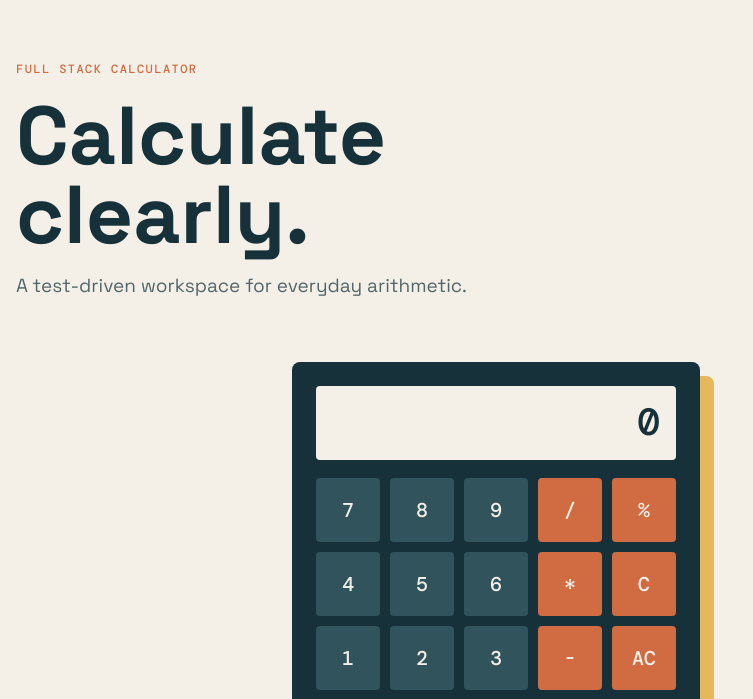
Test: Calculator shell › shows an API error when the calculation request fails
The width and height of the screenshot is (753, 699).
Click the button "2" at (422, 658), box [390, 626, 454, 690]
(page scrolled)
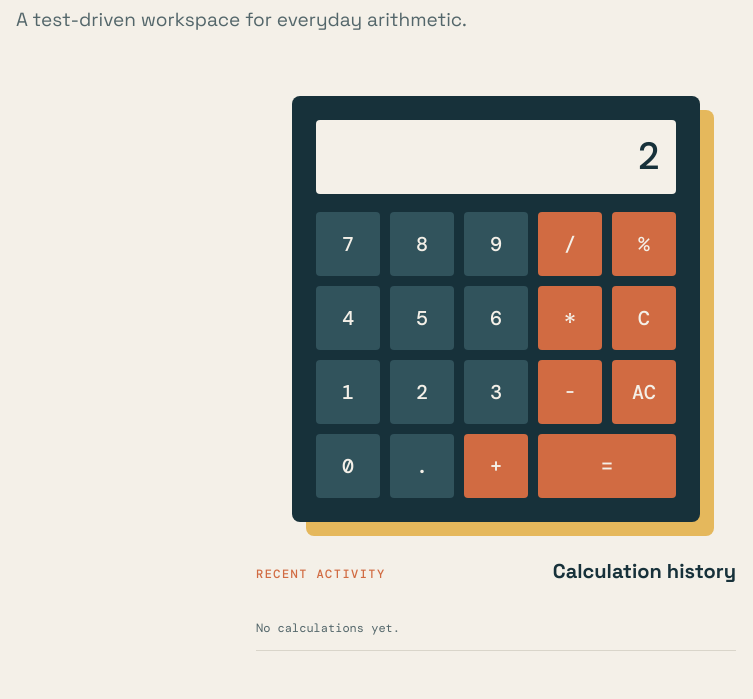
Click the button "+" at (496, 466), box [464, 434, 528, 498]
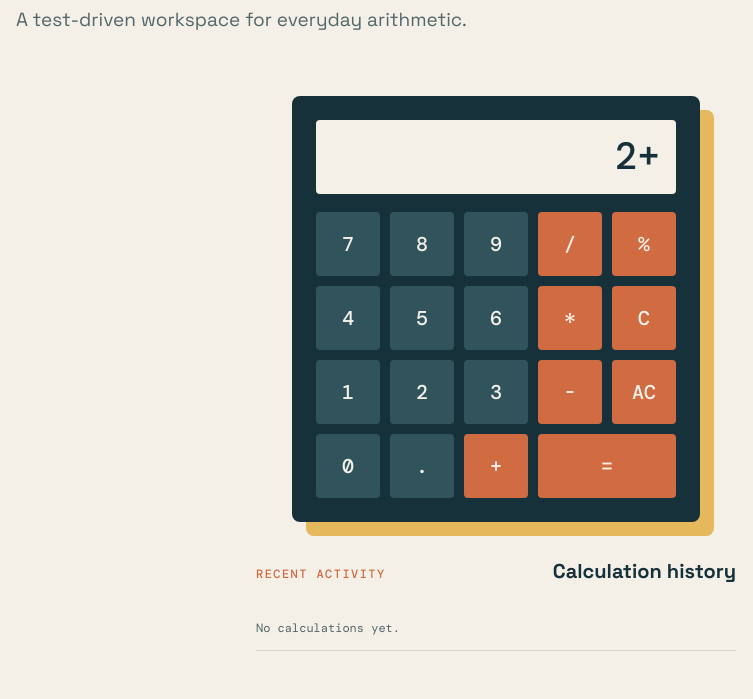
Click the button "3" at (496, 392), box [464, 360, 528, 424]
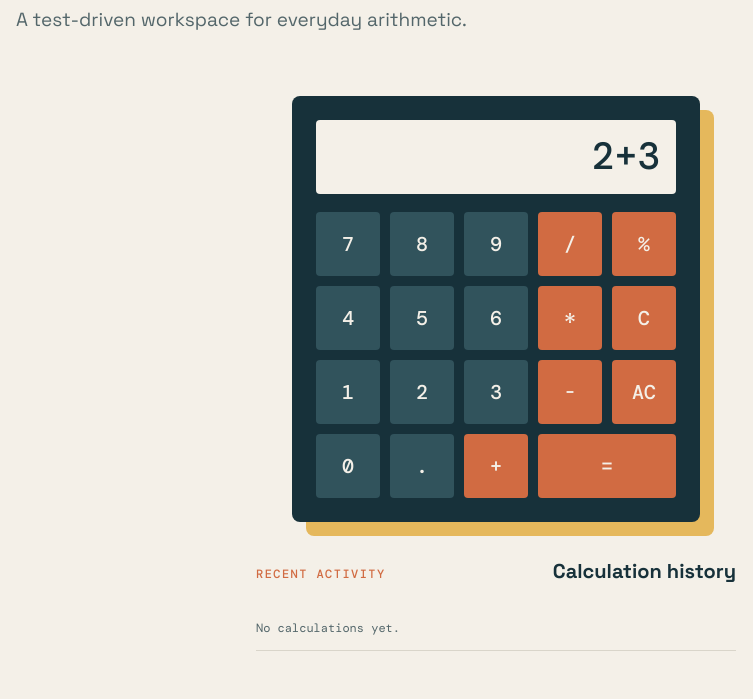
Click the button "=" at (607, 466), box [538, 434, 676, 498]
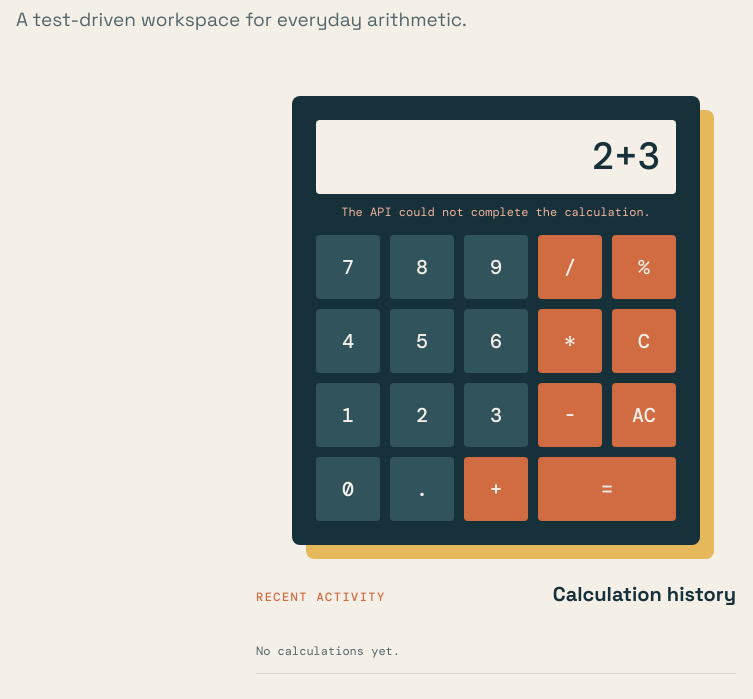
expect the message shows "API could not complete": met, box [341, 204, 651, 220]
